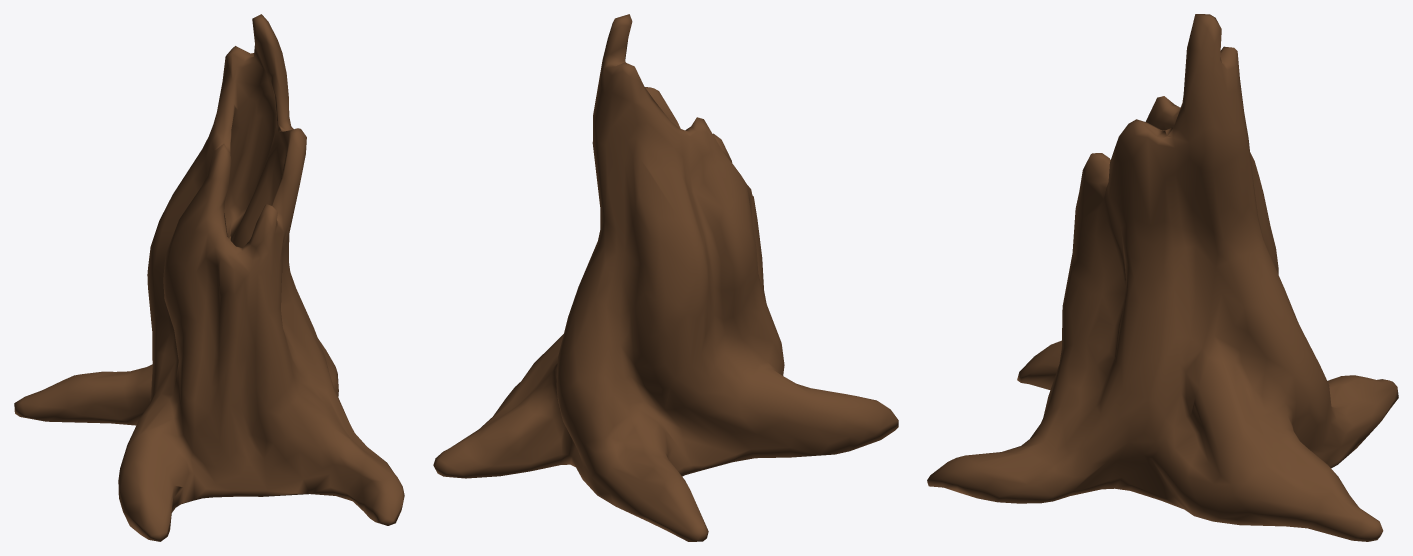
File: Tree_03.fbx
The picture shows the model from 3 angles, left to right: view 1: azimuth 30°, elevation 25°; view 2: azimuth 150°, elevation 25°; view 3: azimuth 270°, elevation 25°; orthographic projection. The views are drawn at different scales.
Visible parts, largest first — view 1: Group64979; view 2: Group64979; view 3: Group64979.
Part boxes in pixels (x1=…): Group64979: x1=14, y1=14, x2=404, y2=541; Group64979: x1=433, y1=14, x2=898, y2=541; Group64979: x1=927, y1=14, x2=1398, y2=541.
Size of the model in its own units: 270 by 356 by 323.
